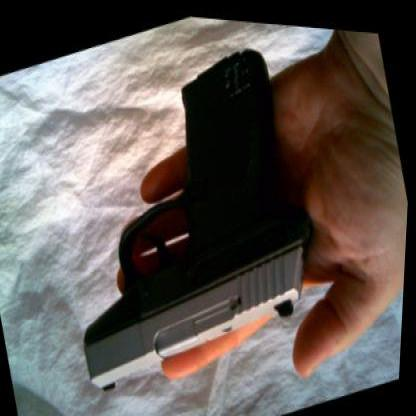pistol: (32, 9, 350, 413)
